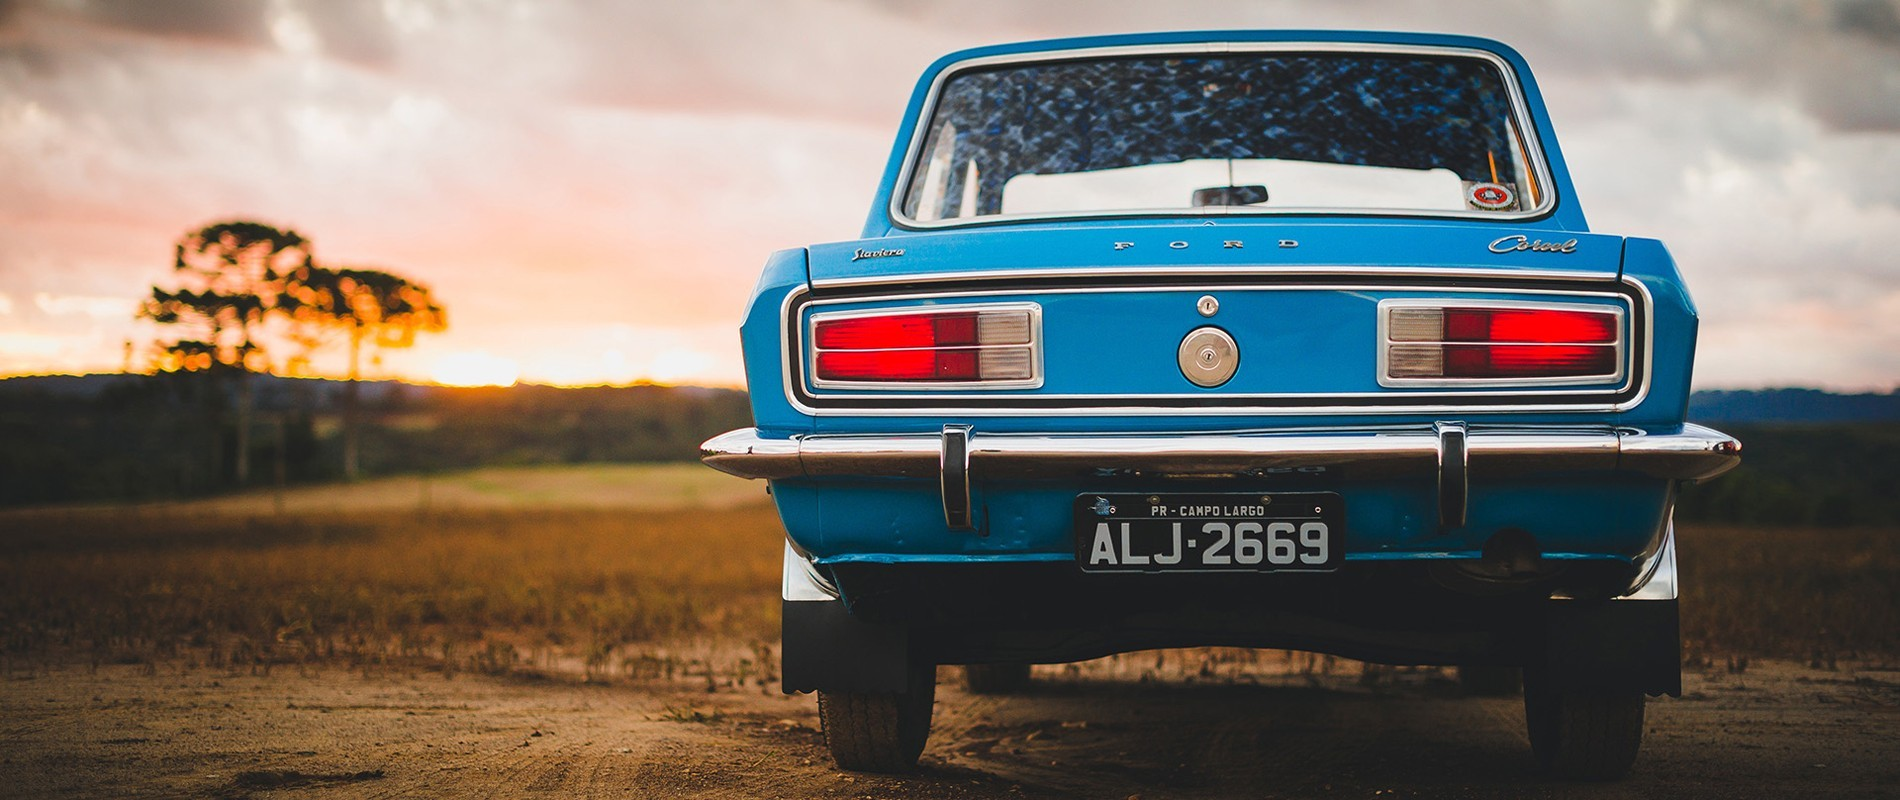car: (690, 30, 1751, 767)
car_plate: (1069, 485, 1351, 586)
